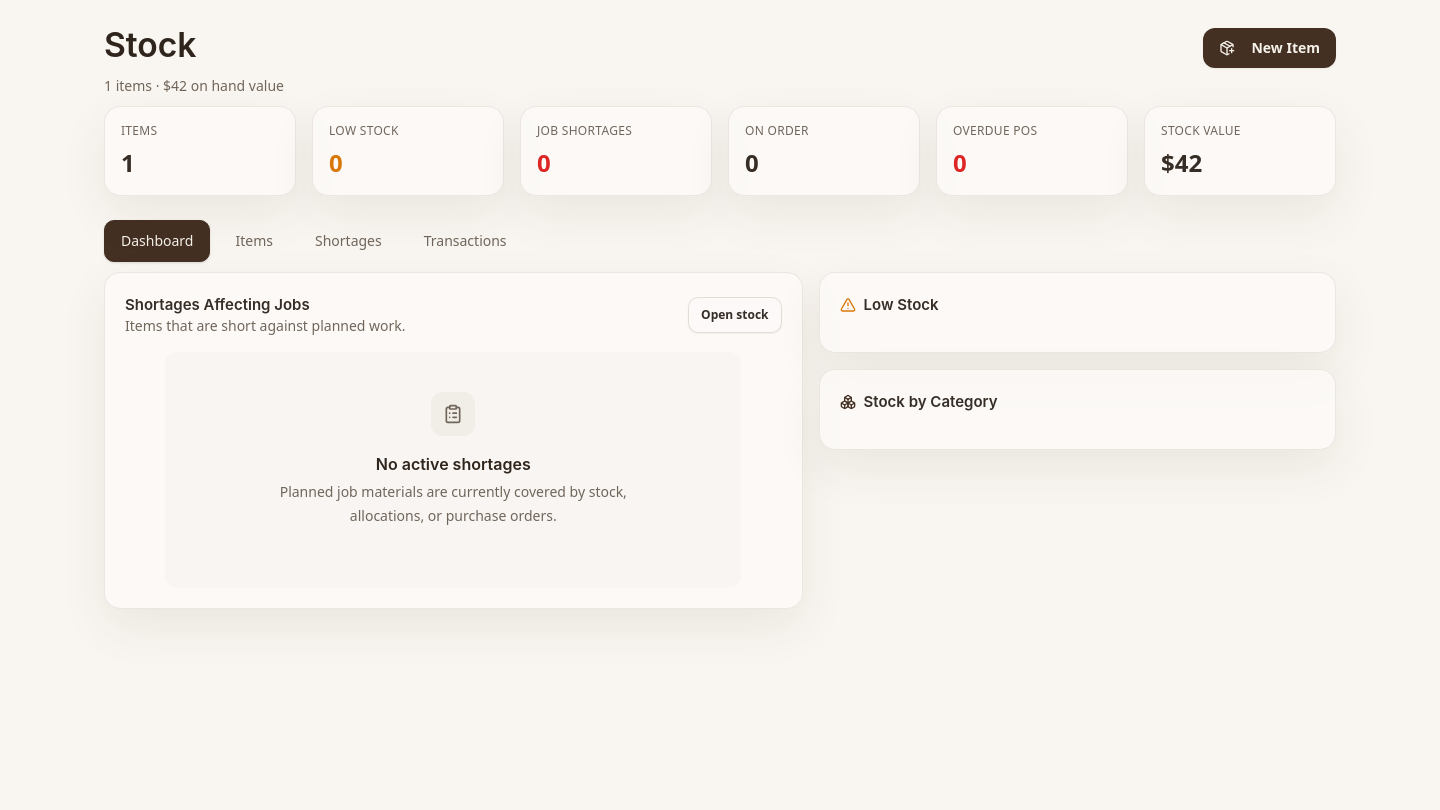
Stock dialogs › opens stock movement dialogs with accessible descriptions
This screenshot has width=1440, height=810.
Expected: the heading "Stock" is shown, [104, 24, 196, 65]
Step 1. Click the tab "Items" → (254, 241), box [218, 220, 290, 262]
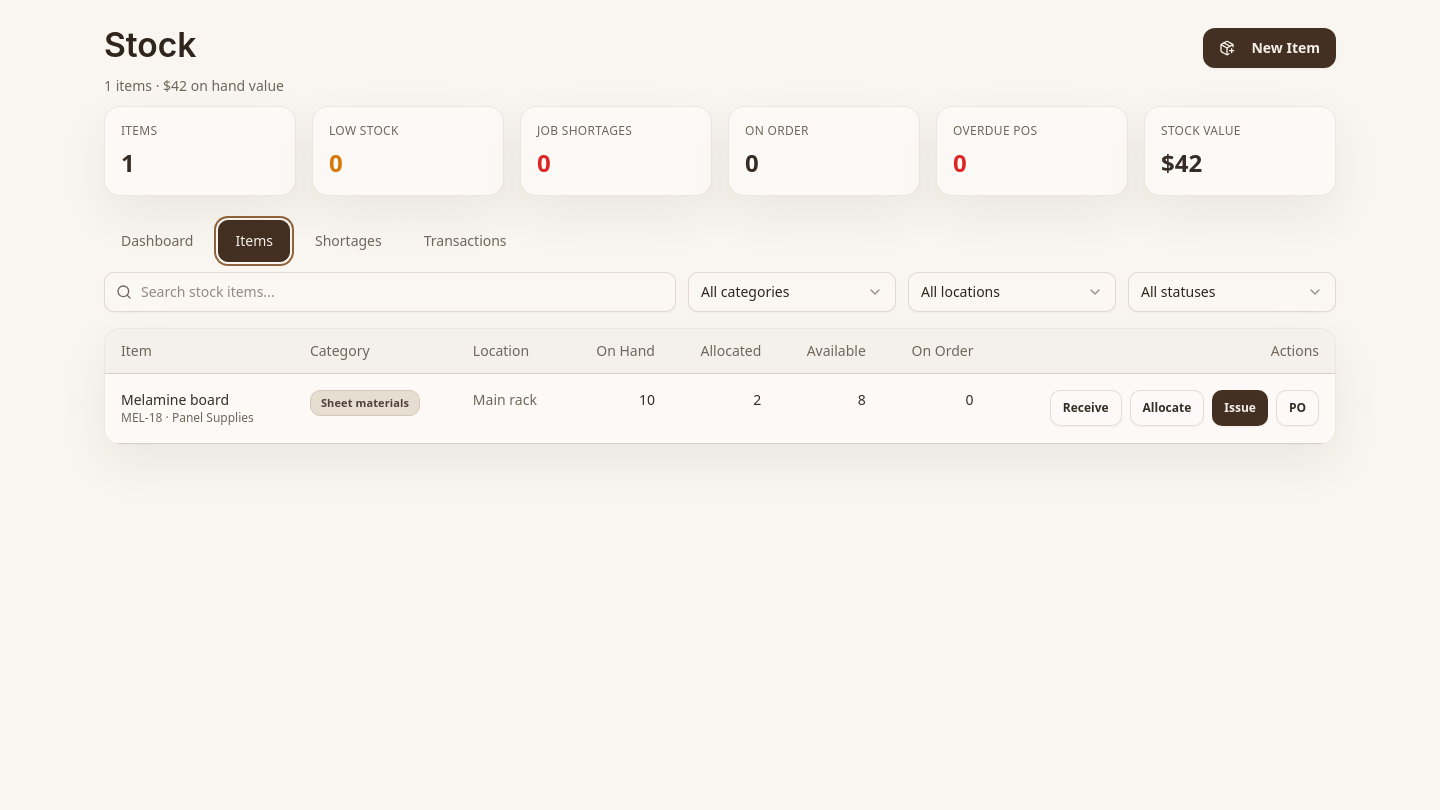
Now the text "Melamine board" is shown, box [121, 390, 229, 409]
Step 2. Click the button "Receive" → (1086, 408), box [1050, 390, 1122, 426]
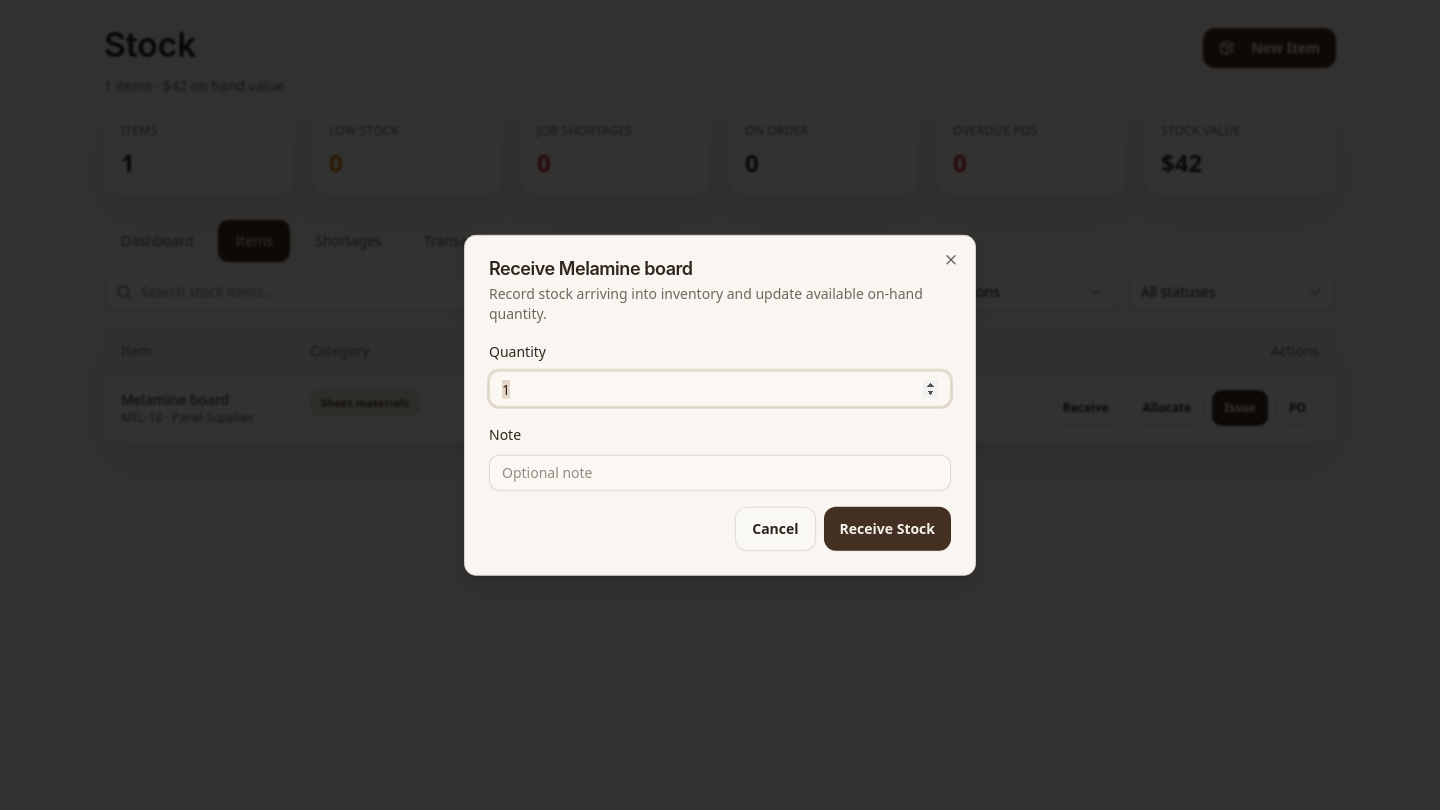
Now the dialog "Receive Melamine board" is shown, box [464, 235, 976, 575]
Now the text "Record stock arriving into inventory and update available on-hand quantity." is shown, box [489, 284, 951, 324]
